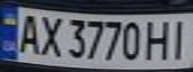0: (121, 18, 145, 62)
3: (63, 16, 87, 60)
7: (81, 17, 106, 60), (103, 18, 124, 61)
A: (12, 11, 45, 55)
H: (142, 17, 175, 61)
I: (166, 16, 193, 61)
X: (33, 12, 66, 57)
